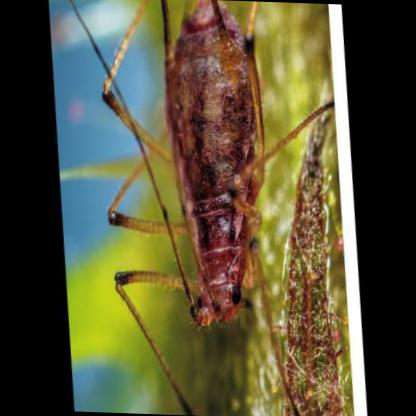uroleucon compositae: (103, 0, 329, 395)
